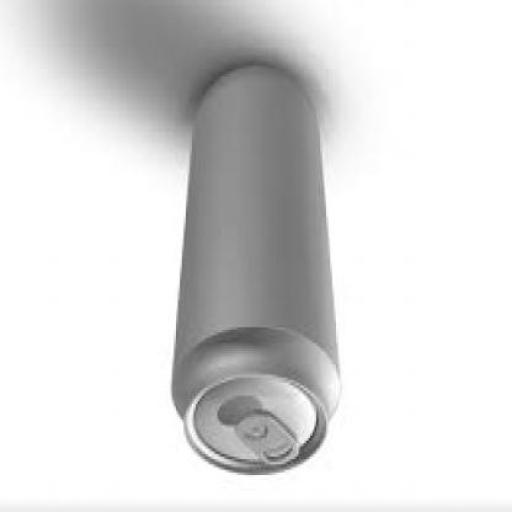metal: (168, 69, 338, 482)
